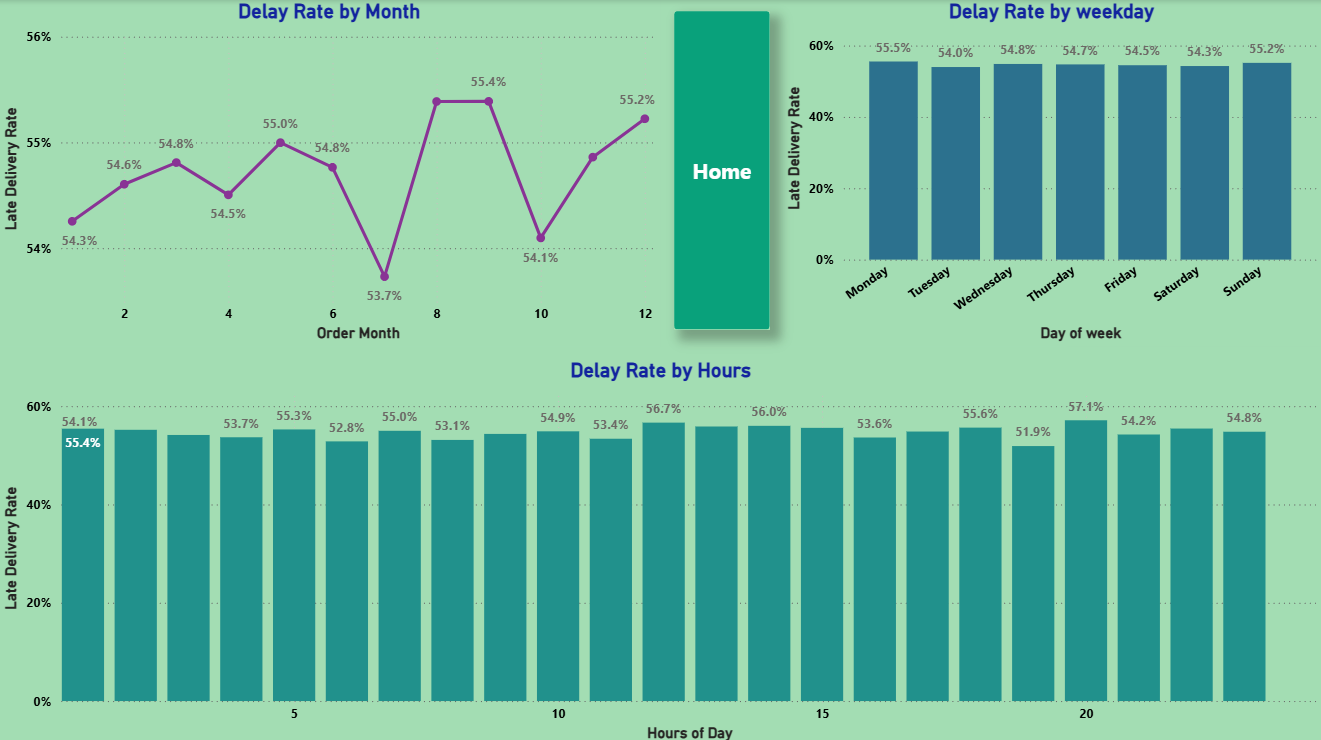

This screenshot's page, from the dashboard's own definition file:
{"tool":"powerbi","page":{"name":"Time-Based Patterns","canvas":[1280,720],"ordinal":3},"visuals":[{"type":"lineChart","title":"Delay Rate by Month","fields":{"Category":["supply_chain_dashboard_data.order_month"],"Y":["supply_chain_dashboard_data.Late Delivery Rate"]},"box":[0,0,639.5,334.6],"z":0},{"type":"clusteredColumnChart","title":"Delay Rate by weekday","fields":{"Category":["supply_chain_dashboard_data.order_day"],"Y":["supply_chain_dashboard_data.Late Delivery Rate"]},"box":[755.6,0,523.5,334.6],"z":1000},{"type":"clusteredColumnChart","title":"Delay Rate by Hours","fields":{"Y":["supply_chain_dashboard_data.Late Delivery Rate"],"Category":["supply_chain_dashboard_data.order_hour"]},"box":[0,346.2,1279.5,374.4],"z":2000},{"type":"pageNavigator","box":[652.7,10.9,92.9,307.6],"z":3000}]}

Visuals, with their boxes in screenshot pixels (x1, y1, x2, y2), scaled from the page's 1280x720 canvas onto the 1321x740 screenshot:
"Delay Rate by Month" lineChart: 0, 0, 660, 344
"Delay Rate by weekday" clusteredColumnChart: 780, 0, 1320, 344
"Delay Rate by Hours" clusteredColumnChart: 0, 356, 1320, 739
pageNavigator: 674, 11, 769, 327
